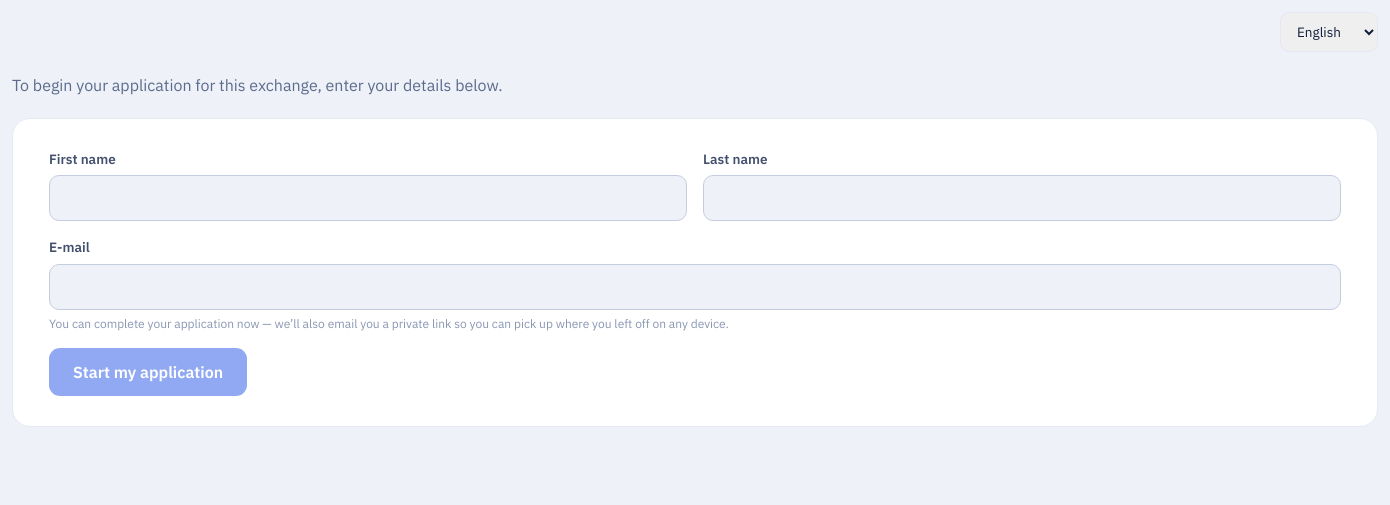
Test: ApplicationStartForm › shows the "already submitted" notice
In the field labelled "First name": point(368, 198) [49,175,687,221], type "Léa"
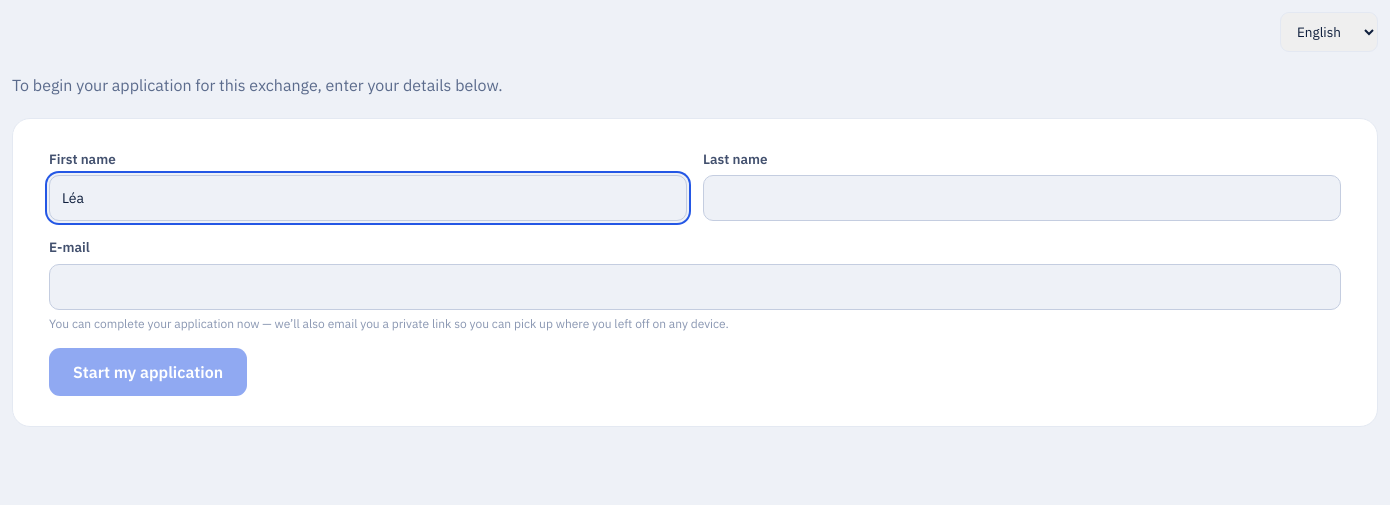
In the field labelled "Last name": point(1022, 198) [703,175,1341,221], type "Martin"
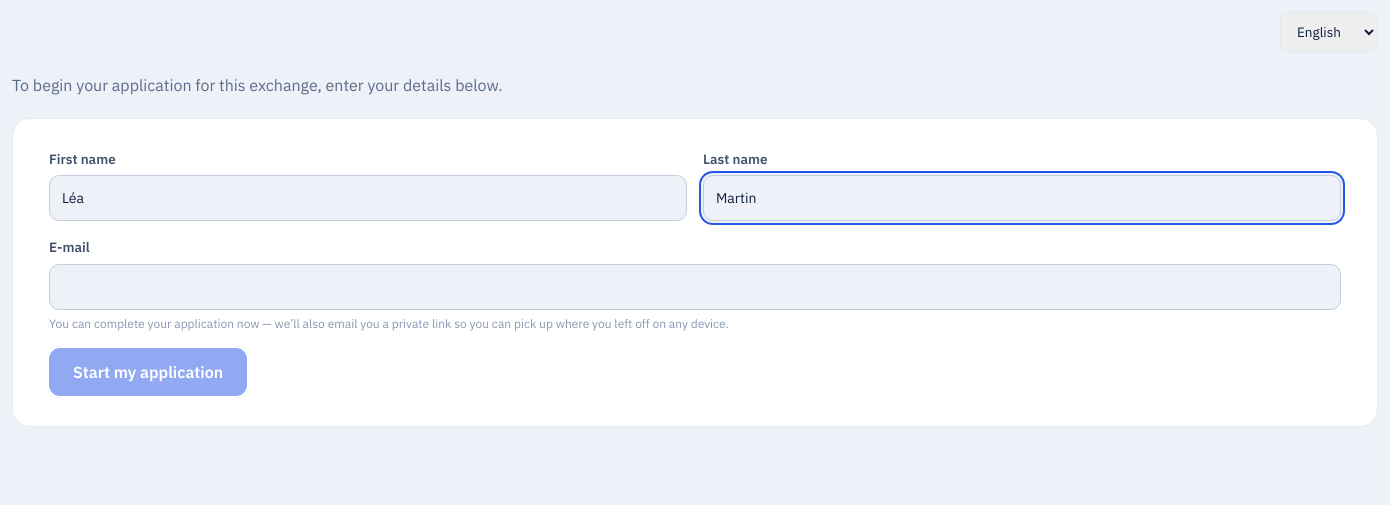
In the field labelled "E-mail": point(695, 286) [49,264,1341,310], type "lea@example.com"
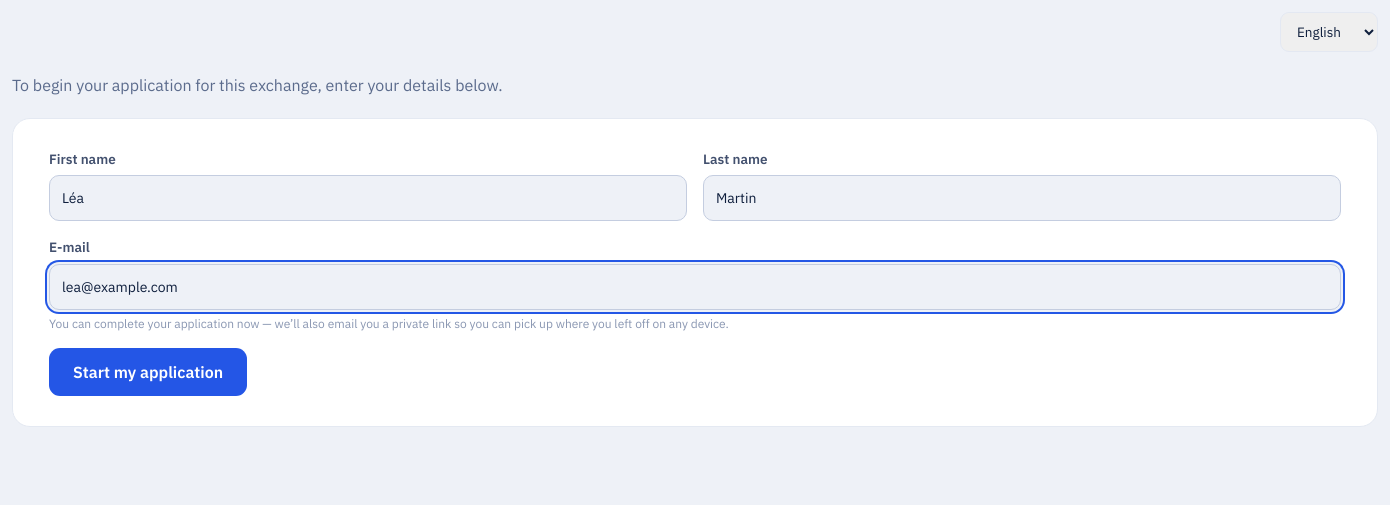
Click the button "Start my application": point(148, 372) [49,348,247,396]
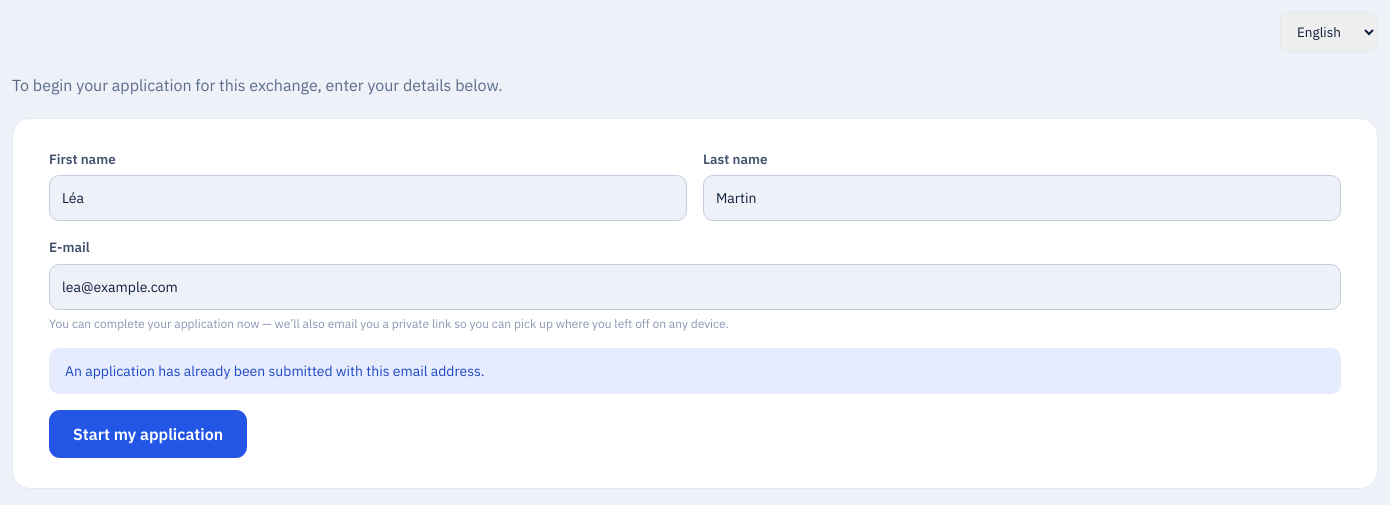
Expected: the text "already been submitted with this email" is shown, [65,362,484,380]
